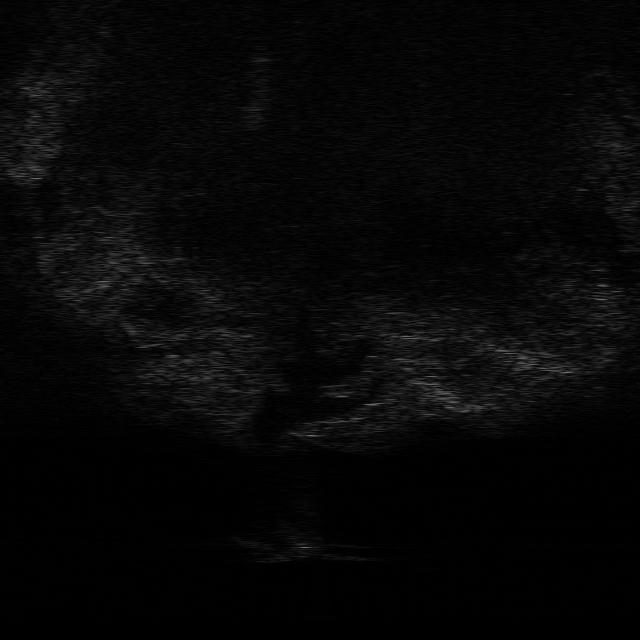plane: (230, 529, 372, 564)
